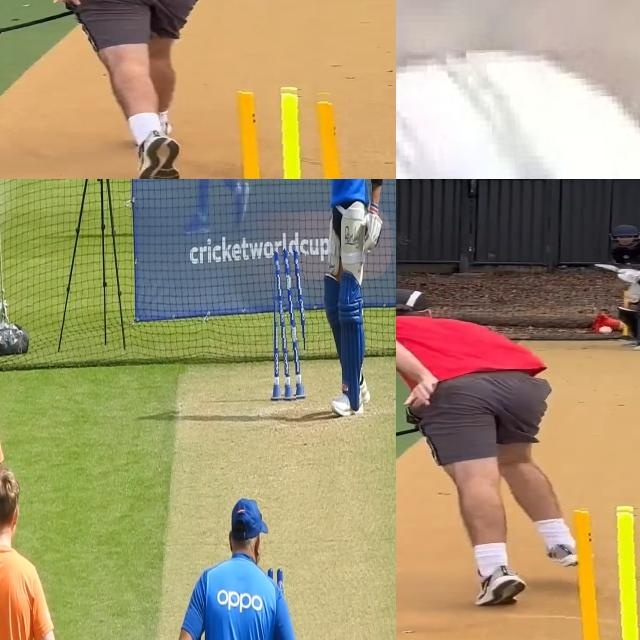Cricket ball: (396, 50, 640, 179), (598, 325, 614, 335)
Stumps: (209, 83, 348, 179), (549, 504, 640, 640), (270, 246, 305, 403)
